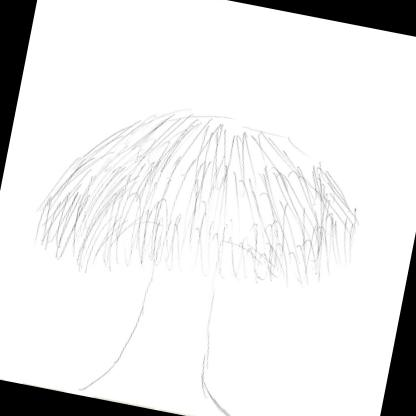crown_dizzy: (28, 84, 378, 319)
trunk_straight: (119, 262, 231, 372)
